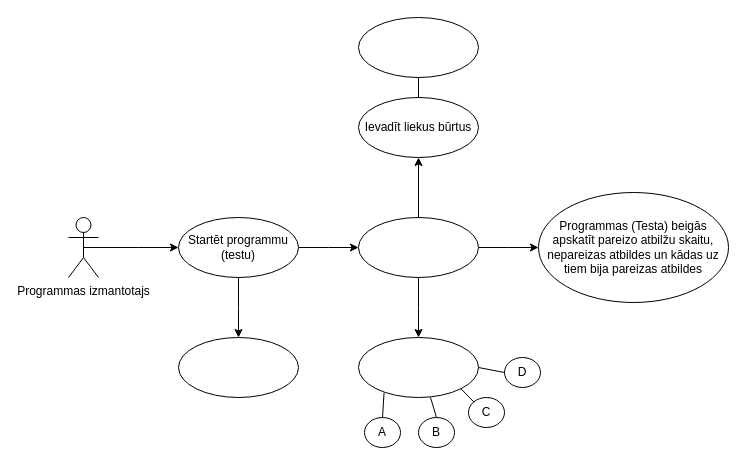
Image size: 746x465. Some labels were removed from this diagram. The box of each missing label's shape, as (x1, y1, x2, y2) in pixels:
Aizvērt programmu (testu): (178, 336, 298, 398)
Citus būrtus no tastatūras: (358, 16, 478, 78)
Ievadīt vajadzīgos būrtus: (358, 336, 478, 398)
Izpidlīt testu, ievadot būrtus: (358, 216, 478, 278)
